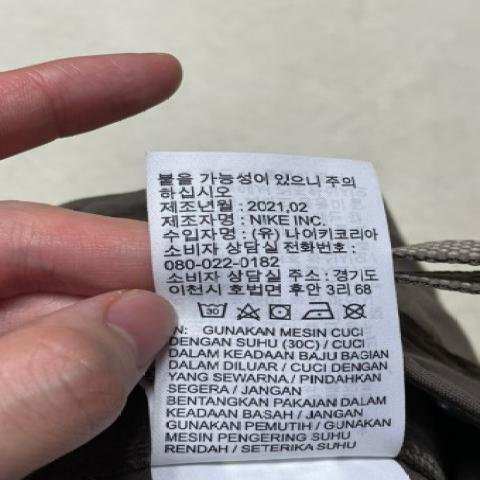30C: (196, 299, 231, 320)
DN_bleach: (234, 301, 263, 321)
DN_dry_clean: (341, 300, 368, 322)
iron_low: (304, 299, 334, 321)
tumble_dry_low: (268, 300, 294, 322)
